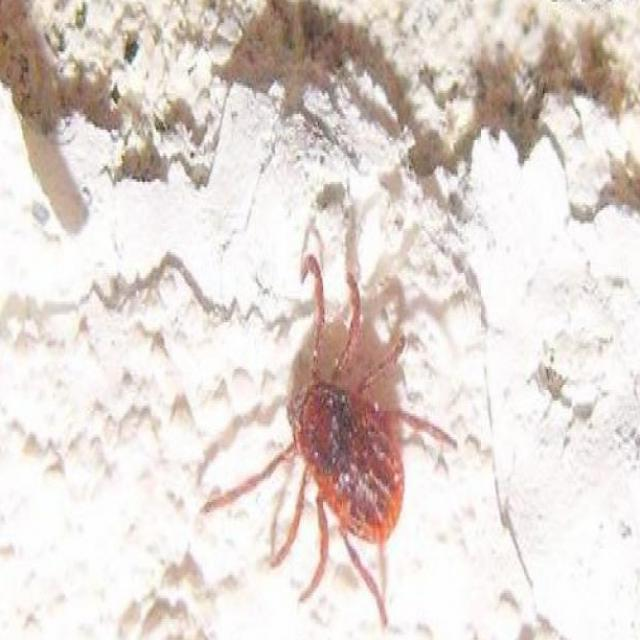Rhipicephalus Sanguineus-F: (199, 229, 457, 627)
